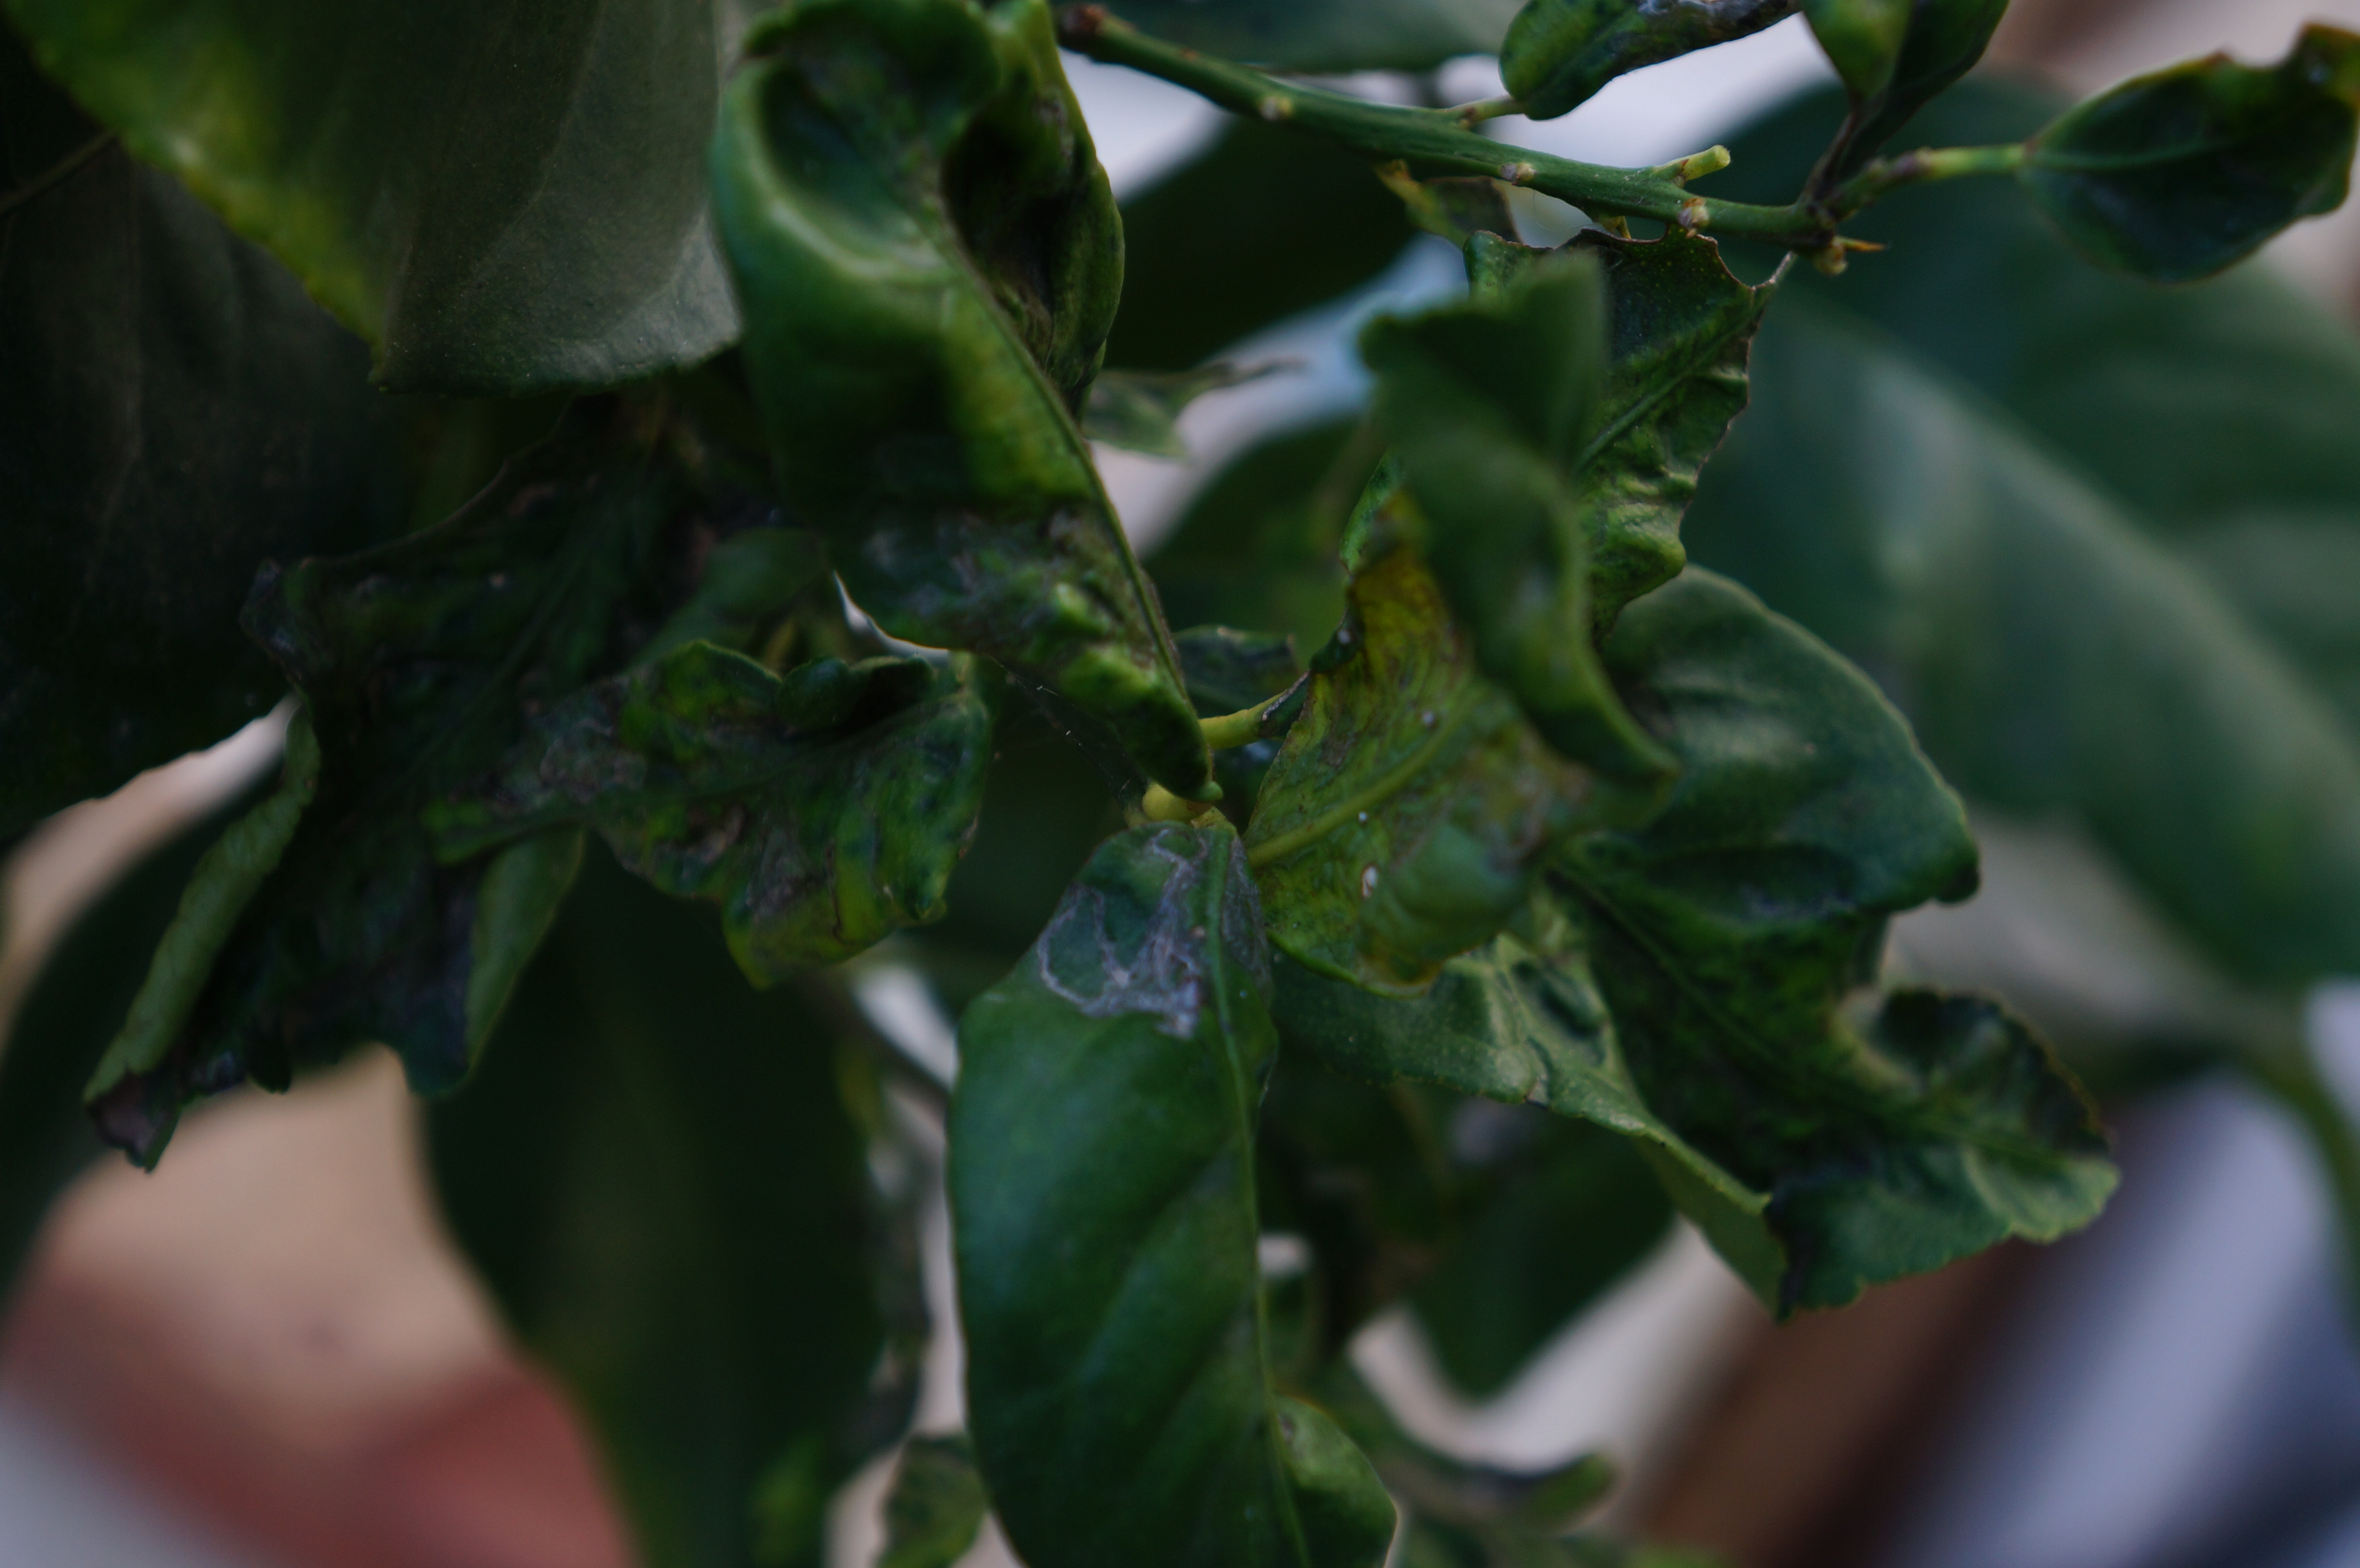damage: (1232, 514, 1620, 987), (488, 642, 995, 996), (1022, 787, 1298, 1064)
